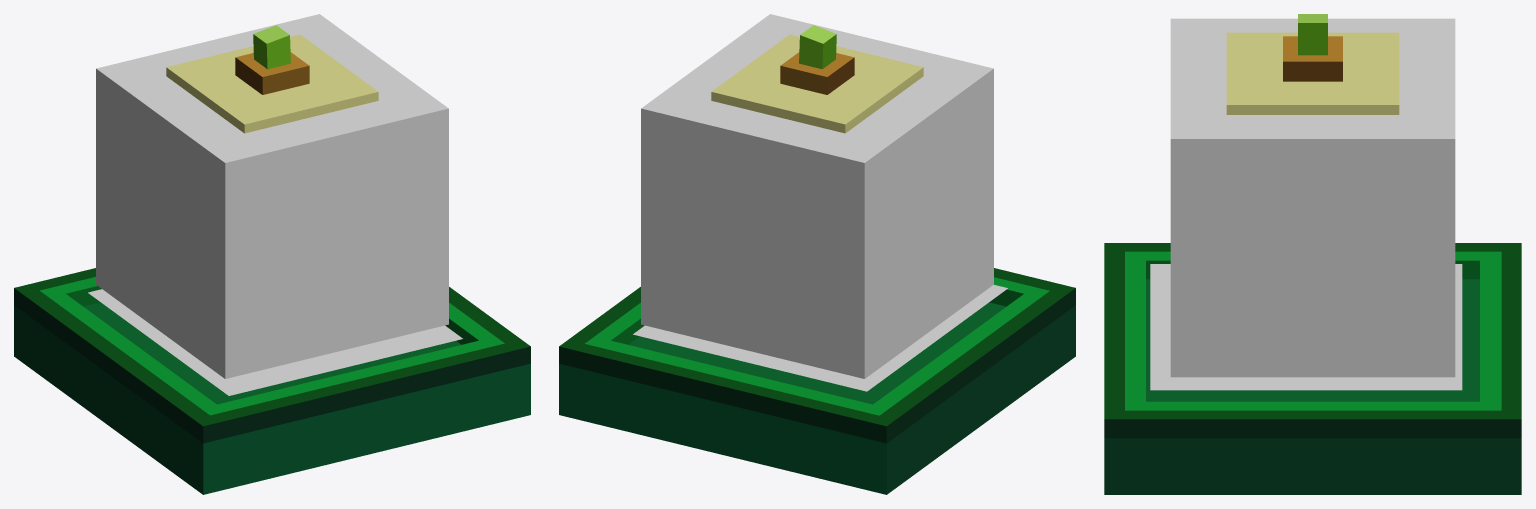
The model's file is Tower_Goo_L2.fbx.
3 views of the same model, side by side, from view 1: azimuth 30°, elevation 25°; view 2: azimuth 150°, elevation 25°; view 3: azimuth 270°, elevation 25° (orthographic). The views are drawn at different scales.
Parts seen in each view (by area): view 1: Stroke, Base, HairTop, Shadow; view 2: Stroke, Base, HairTop, Shadow; view 3: Stroke, Base, HairTop, Shadow.
Boxes of the visible parts, x1,y1,x2,y2 form: Stroke: (96, 14, 448, 378); Base: (14, 268, 530, 494); HairTop: (166, 25, 378, 133); Shadow: (88, 289, 462, 395); Stroke: (641, 14, 993, 378); Base: (559, 268, 1075, 494); HairTop: (711, 25, 923, 133); Shadow: (633, 285, 1007, 391); Stroke: (1170, 18, 1455, 377); Base: (1104, 243, 1521, 494); HairTop: (1226, 14, 1399, 114); Shadow: (1150, 264, 1462, 390).
Bounding box in the file's own units: 100 × 103 × 100.
